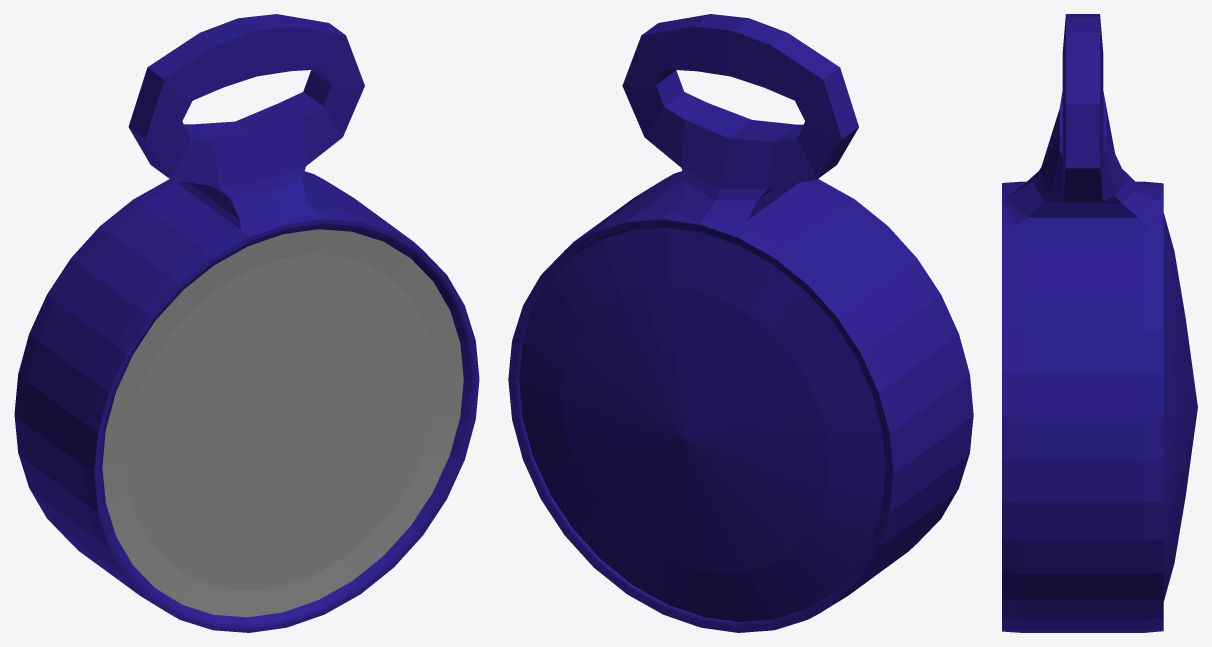
The model's file is clock.fbx.
The picture shows the model from 3 angles, left to right: view 1: azimuth 30°, elevation 25°; view 2: azimuth 150°, elevation 25°; view 3: azimuth 270°, elevation 25°; orthographic projection.
Visible parts, largest first — view 1: Clock; view 2: Clock; view 3: Clock.
Part boxes in pixels (left/top/right/bottom): Clock: left=14, top=14, right=479, bottom=632; Clock: left=508, top=14, right=973, bottom=632; Clock: left=1002, top=14, right=1197, bottom=632.
Size of the model in its own units: 27.5 by 38.98 by 11.92.
